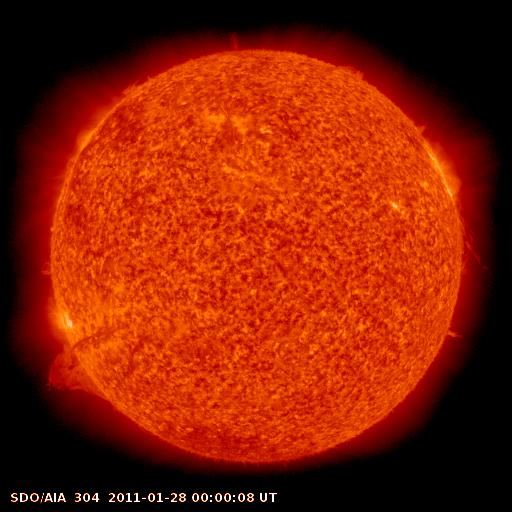prominence: (36, 336, 120, 410), (452, 209, 495, 284), (103, 56, 160, 106), (21, 248, 79, 289), (331, 50, 379, 94), (431, 312, 474, 353), (219, 24, 260, 56)
